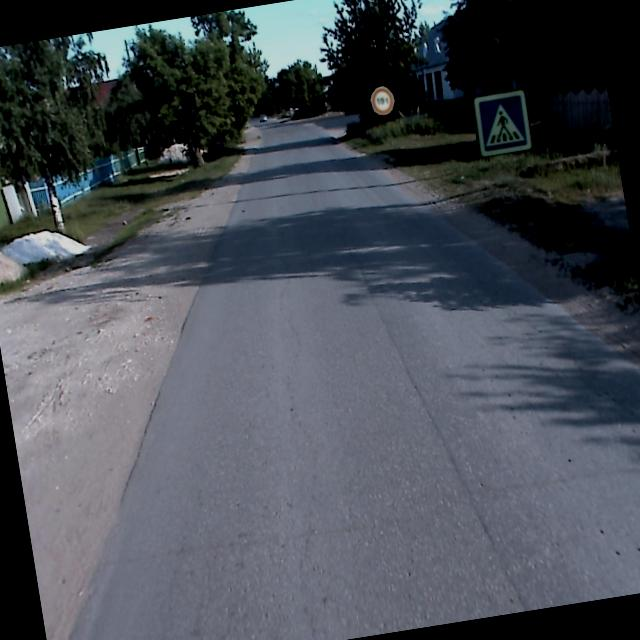road: (68, 120, 640, 640)
